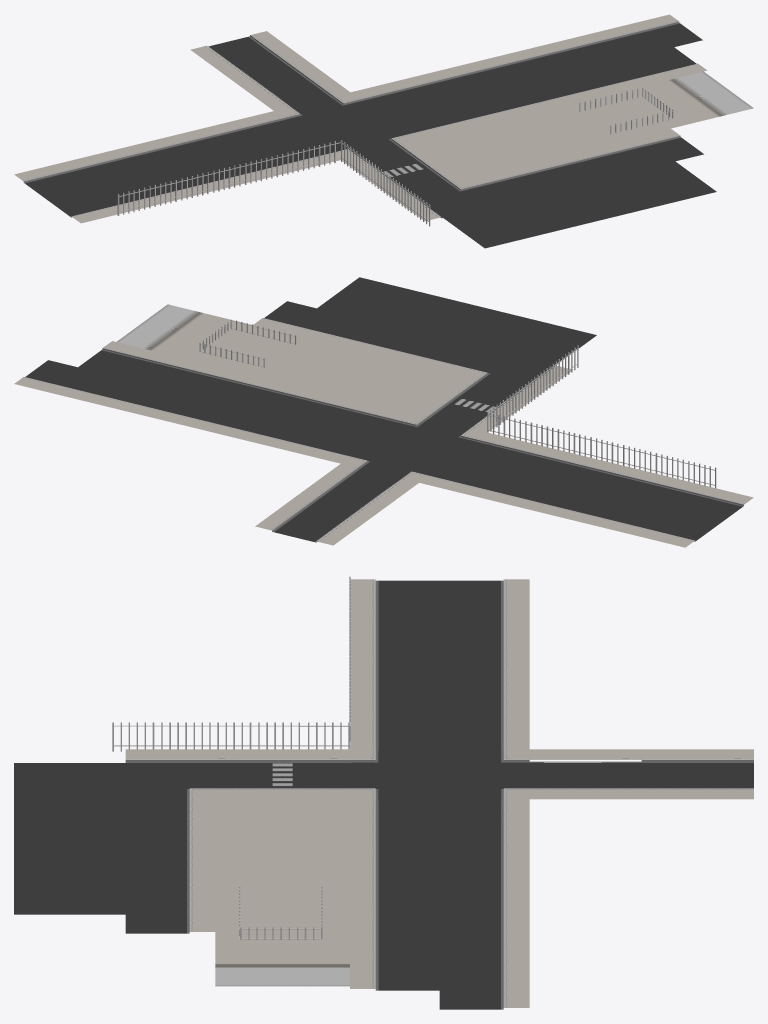
Rendered from Level2.FBX.
3 renders of one model, top to bottom at view 1: azimuth 30°, elevation 25°; view 2: azimuth 150°, elevation 25°; view 3: azimuth 270°, elevation 25°, orthographic. The views are drawn at different scales.
Visible parts, largest first — view 1: _AllRoads_L2, _Fence_L2; view 2: _AllRoads_L2, _Fence_L2; view 3: _AllRoads_L2, _Fence_L2.
Part boxes in pixels (x1=…): _AllRoads_L2: x1=14, y1=14, x2=753, y2=248; _Fence_L2: x1=117, y1=87, x2=673, y2=226; _AllRoads_L2: x1=14, y1=277, x2=753, y2=547; _Fence_L2: x1=199, y1=319, x2=716, y2=488; _AllRoads_L2: x1=14, y1=579, x2=753, y2=1009; _Fence_L2: x1=112, y1=576, x2=350, y2=939.
Size of the model in its own units: 226 by 7.13 by 165.
